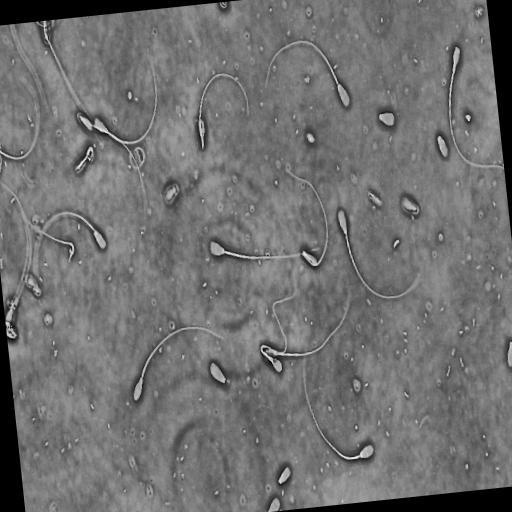dirt-particles: (305, 130, 317, 146), (465, 112, 472, 123)
folded-tail: (286, 169, 328, 266), (199, 73, 250, 148), (261, 290, 297, 361)
loose-head: (398, 192, 422, 219), (376, 108, 398, 131), (209, 360, 227, 386), (276, 462, 294, 487), (435, 133, 450, 161), (163, 184, 179, 206), (506, 338, 512, 371)
loose-tail: (20, 206, 75, 264)
normal: (335, 196, 423, 306), (127, 319, 230, 412), (298, 361, 381, 470), (444, 36, 504, 179), (30, 205, 115, 284), (263, 37, 353, 110), (89, 62, 162, 150), (194, 67, 256, 157), (282, 164, 332, 271), (257, 274, 302, 378), (205, 234, 321, 265)
